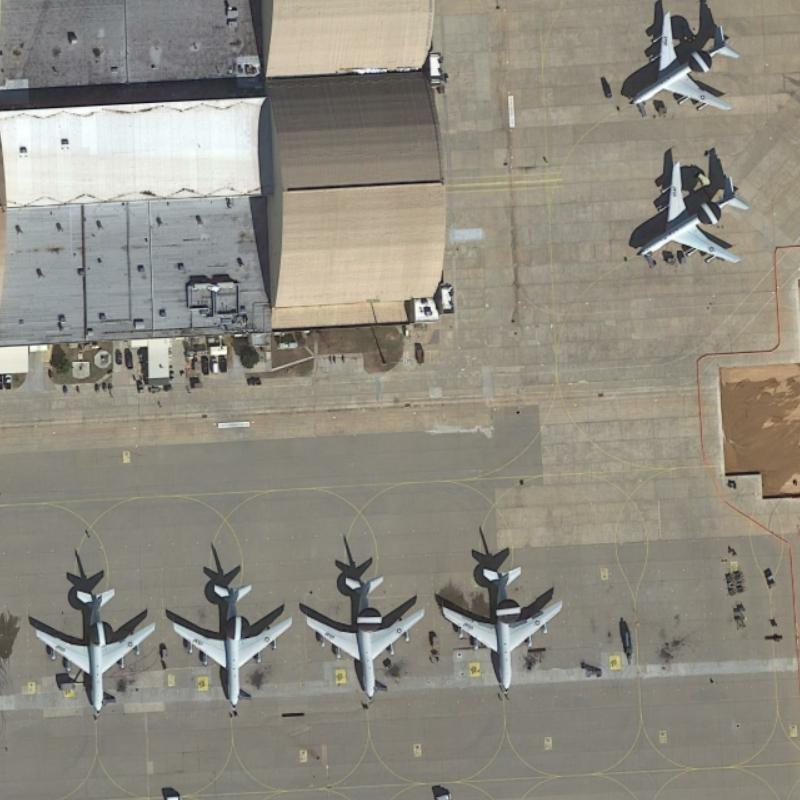A7: (23, 578, 161, 717), (434, 556, 566, 699), (299, 563, 429, 708), (162, 576, 295, 707), (611, 4, 748, 123), (635, 149, 755, 273)
